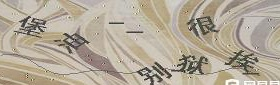chinese: (221, 42, 260, 78), (174, 48, 208, 78), (134, 62, 175, 85), (16, 12, 48, 35), (56, 31, 86, 55), (188, 11, 217, 35)
